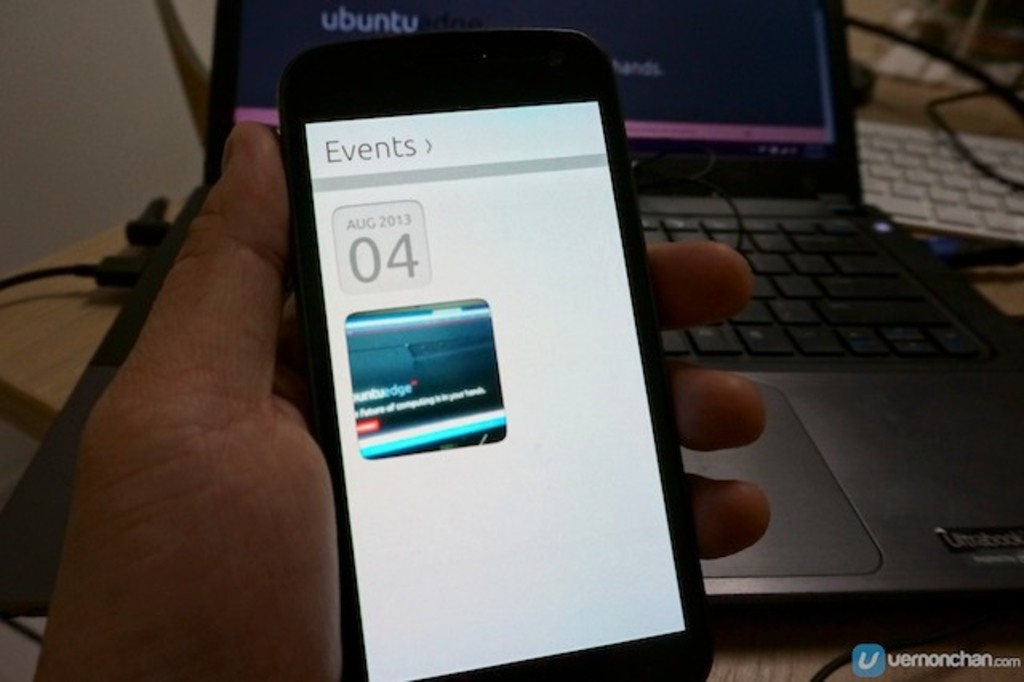Mobile-phone: (280, 9, 714, 682)
